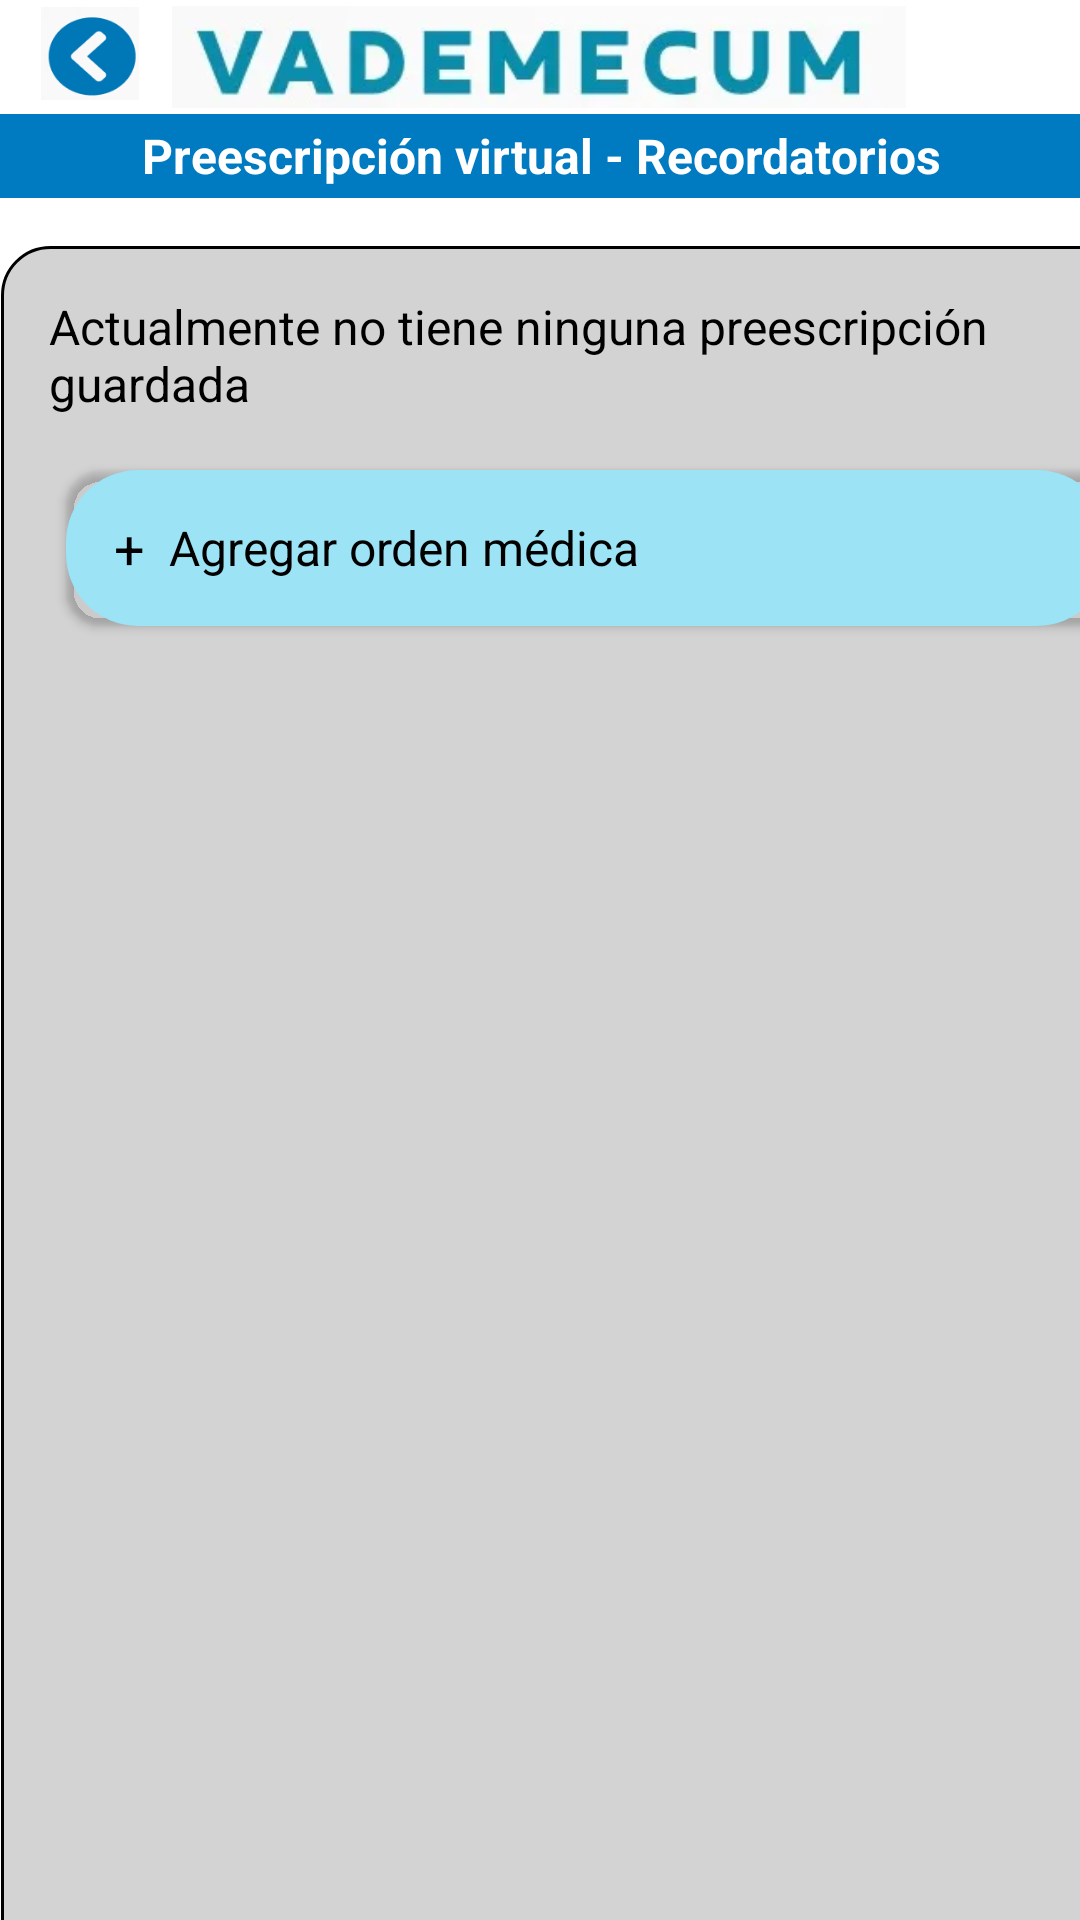

Point at icon controls on the screen. Image size 1080×1920, points as [x,y].
imgatras: [92,56]
